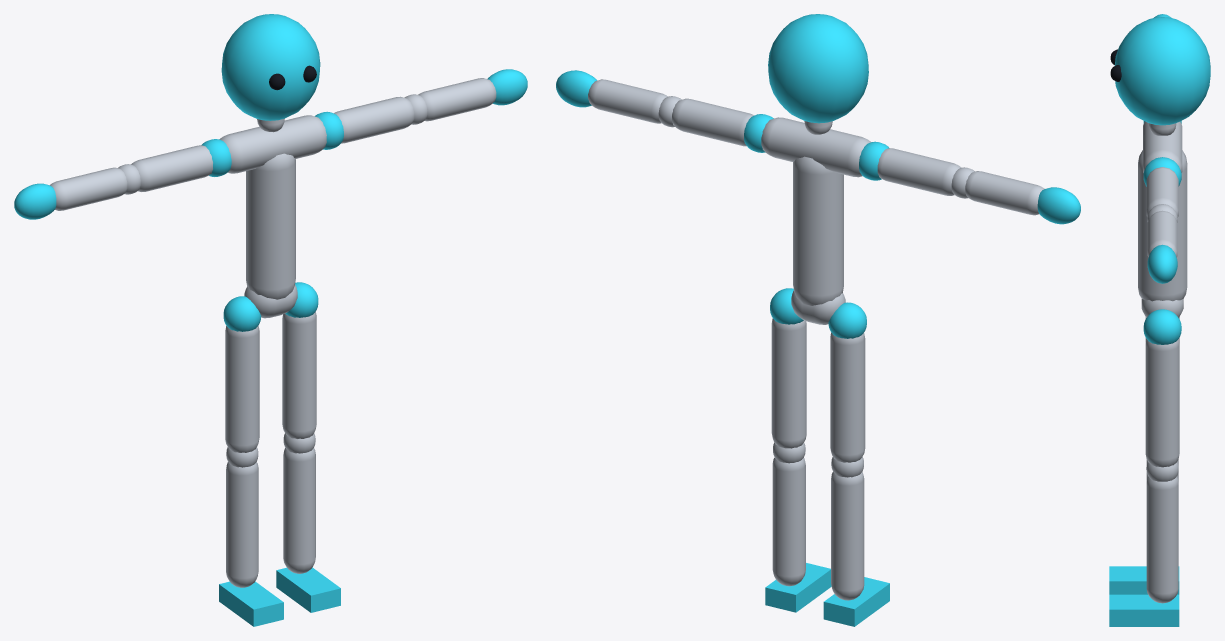
File: stickman-3d.glb
The picture shows the model from 3 angles, left to right: view 1: azimuth 30°, elevation 25°; view 2: azimuth 150°, elevation 25°; view 3: azimuth 270°, elevation 25°; orthographic projection. The views are drawn at different scales.
Parts seen in each view (by area): view 1: Mesh_Head, Mesh_Torso, Mesh_Thigh.R, Mesh_Thigh.L, Mesh_Shin.L, Mesh_Shin.R, Mesh_Clavicle, Mesh_UpperArm.R, Mesh_UpperArm.L, Mesh_LowerArm.R, Mesh_LowerArm.L, Mesh_Foot.L (+7 smaller); view 2: Mesh_Head, Mesh_Torso, Mesh_Thigh.R, Mesh_Thigh.L, Mesh_Shin.R, Mesh_Shin.L, Mesh_Clavicle, Mesh_UpperArm.R, Mesh_UpperArm.L, Mesh_LowerArm.R, Mesh_LowerArm.L, Mesh_Foot.R (+7 smaller); view 3: Mesh_Head, Mesh_Thigh.L, Mesh_Shin.L, Mesh_Torso, Mesh_Foot.L, Mesh_Clavicle, Mesh_UpperArm.L, Mesh_Foot.R, Mesh_HipBall.L, Mesh_LowerArm.L, Mesh_Hand.L, Mesh_Pelvis (+4 smaller).
Boxes of the visible parts, x1,y1,x2,y2 form: Mesh_Head: (221, 14, 320, 120); Mesh_Torso: (246, 153, 295, 299); Mesh_Thigh.R: (225, 325, 259, 452); Mesh_Thigh.L: (282, 311, 316, 438); Mesh_Shin.L: (283, 448, 315, 573); Mesh_Shin.R: (226, 462, 258, 587); Mesh_Clavicle: (219, 115, 326, 173); Mesh_UpperArm.R: (131, 145, 212, 191); Mesh_UpperArm.L: (334, 96, 414, 143); Mesh_LowerArm.R: (50, 167, 127, 210); Mesh_LowerArm.L: (418, 78, 496, 121); Mesh_Foot.L: (276, 567, 340, 612); Mesh_Head: (768, 14, 868, 123); Mesh_Torso: (793, 156, 843, 305); Mesh_Thigh.R: (830, 332, 865, 462); Mesh_Thigh.L: (771, 318, 806, 448); Mesh_Shin.R: (831, 472, 864, 600); Mesh_Shin.L: (772, 457, 805, 586); Mesh_Clavicle: (761, 117, 870, 177); Mesh_UpperArm.R: (877, 148, 961, 195); Mesh_UpperArm.L: (672, 98, 754, 146); Mesh_LowerArm.R: (965, 171, 1044, 215); Mesh_LowerArm.L: (588, 79, 667, 123); Mesh_Foot.R: (823, 577, 889, 626); Mesh_Head: (1114, 17, 1210, 125); Mesh_Thigh.L: (1145, 339, 1179, 467); Mesh_Shin.L: (1146, 476, 1178, 603); Mesh_Torso: (1138, 150, 1187, 301); Mesh_Foot.L: (1109, 594, 1179, 626); Mesh_Clavicle: (1143, 121, 1182, 172); Mesh_UpperArm.L: (1146, 167, 1178, 217); Mesh_Foot.R: (1109, 566, 1179, 594); Mesh_HipBall.L: (1143, 309, 1181, 344); Mesh_LowerArm.L: (1147, 210, 1177, 257); Mesh_Hand.L: (1147, 244, 1177, 283); Mesh_Pelvis: (1141, 299, 1183, 317).
Size of the model in its own units: 1.7 by 1.84 by 0.2891.
